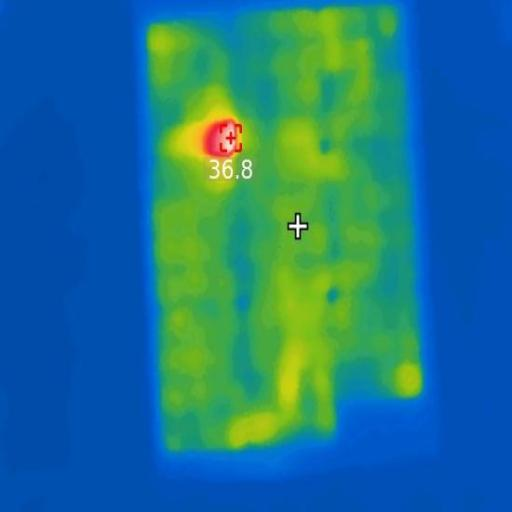hotspot: (198, 102, 245, 162)
